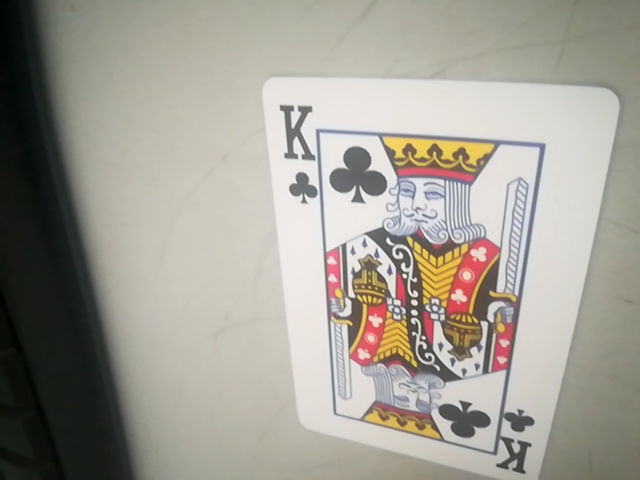mh k: (267, 70, 624, 480)
